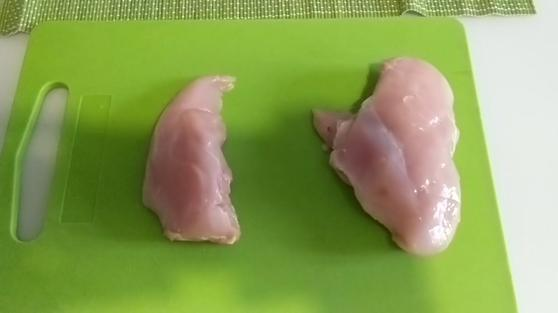chicken_fillet: (318, 59, 461, 258), (145, 69, 242, 242)
